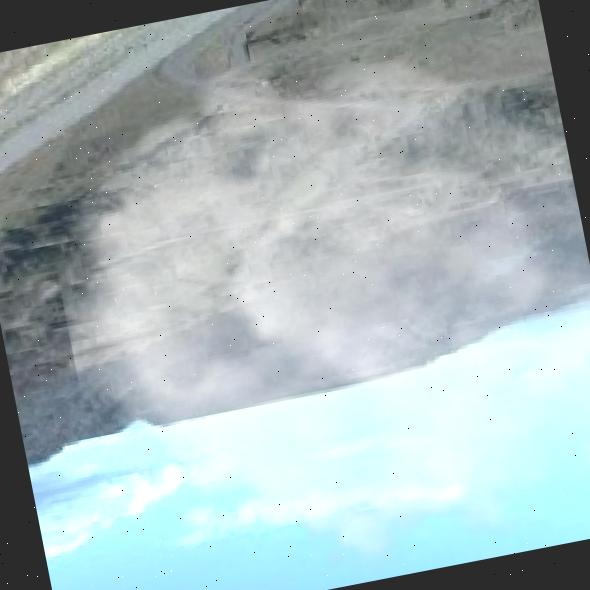smoke: (21, 0, 590, 590)
